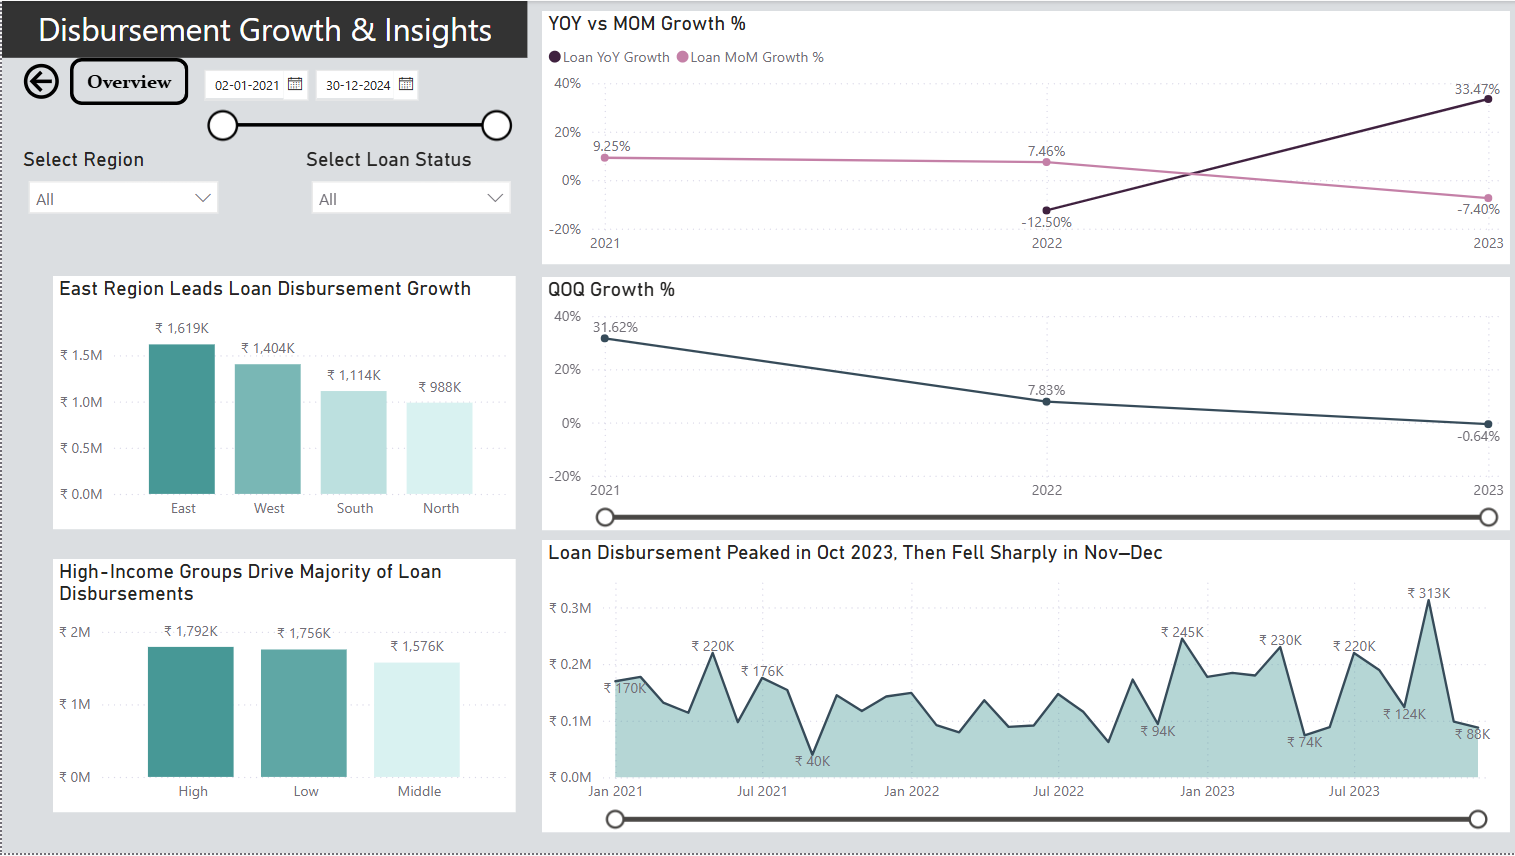

What the dashboard file says about the page in this screenshot:
{"tool":"powerbi","page":{"name":" Disbursement Growth & Insights","canvas":[1280,720],"ordinal":1},"visuals":[{"type":"textbox","box":[0,0,444.2,48.3],"z":0},{"type":"columnChart","title":"East Region Leads Loan Disbursement Growth","fields":{"Category":["Customers.Region"],"Y":["M_Table.Loan Disbursed Over Time"]},"box":[43.2,232.8,391,214.2],"z":1000},{"type":"columnChart","title":"High-Income Groups Drive Majority of Loan Disbursements","fields":{"Category":["Customers.Income_Group"],"Y":["M_Table.Loan Disbursed Over Time"]},"box":[43.2,471.5,391,214.2],"z":2000},{"type":"slicer","fields":{"Values":["Payments.Date"]},"box":[158.2,48.1,281,75.6],"z":3000},{"type":"slicer","title":"Select Region","fields":{"Values":["Customers.Region"]},"box":[12.8,123.8,179.8,78.6],"z":4000},{"type":"slicer","title":"Select Loan Status","fields":{"Values":["Loans.Status"]},"box":[251.5,123.8,187.6,78.6],"z":5000},{"type":"lineChart","title":"Loan Disbursement Peaked in Oct 2023, Then Fell Sharply in Nov–Dec","fields":{"Y":["M_Table.Loan Disbursed Over Time"],"Category":["DateTable.Date.Variation.Date Hierarchy.Year","DateTable.Date.Variation.Date Hierarchy.Quarter","DateTable.Date.Variation.Date Hierarchy.Month","DateTable.Date.Variation.Date Hierarchy.Day"]},"box":[456.3,455.3,818.1,246.6],"z":6000},{"type":"lineChart","title":"YOY vs MOM Growth %","fields":{"Category":["DateTable.Date.Variation.Date Hierarchy.Year"],"Y":["M_Table.Loan YoY Growth %","M_Table.Loan MoM Growth"]},"box":[456.3,8.6,817.7,213.9],"z":7000},{"type":"lineChart","title":"QOQ Growth %","fields":{"Y":["M_Table.Loan QoQ Growth"],"Category":["DateTable.Date.Variation.Date Hierarchy.Year","DateTable.Date.Variation.Date Hierarchy.Quarter"]},"box":[456.3,232.9,817.7,213.9],"z":8000},{"type":"actionButton","box":[57.6,48.2,100.1,39.7],"z":9000},{"type":"actionButton","box":[13.2,48.2,43.8,39.5],"z":10000}]}

Visuals, with their boxes in screenshot pixels (x1, y1, x2, y2), scaled from the page's 1280x720 canvas onto the 1515x856 screenshot:
textbox: 0:0:526:57
"East Region Leads Loan Disbursement Growth" columnChart: 51:277:514:531
"High-Income Groups Drive Majority of Loan Disbursements" columnChart: 51:561:514:815
slicer - Payments.Date: 187:57:520:147
"Select Region" slicer: 15:147:228:241
"Select Loan Status" slicer: 298:147:520:241
"Loan Disbursement Peaked in Oct 2023, Then Fell Sharply in Nov–Dec" lineChart: 540:541:1508:834
"YOY vs MOM Growth %" lineChart: 540:10:1508:265
"QOQ Growth %" lineChart: 540:277:1508:531
actionButton: 68:57:187:105
actionButton: 16:57:67:104
